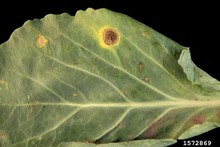damaged_cabbage: (3, 3, 216, 147)
